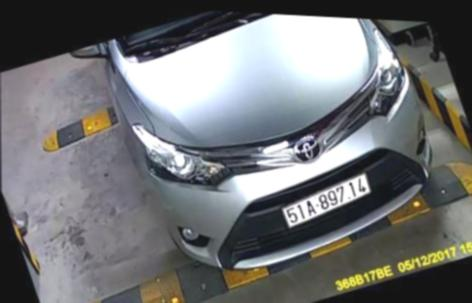License_Plate: (272, 163, 377, 239)
